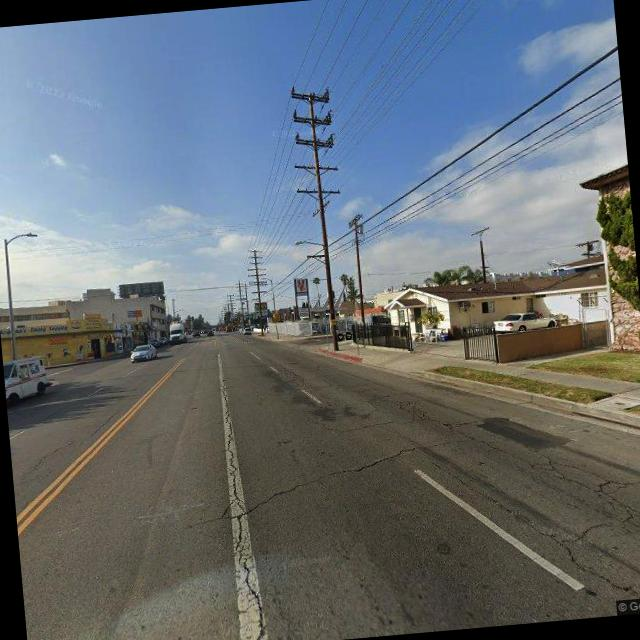crack: (365, 358, 640, 543), (434, 442, 628, 603), (210, 439, 446, 524), (208, 351, 276, 640), (19, 404, 139, 476)
